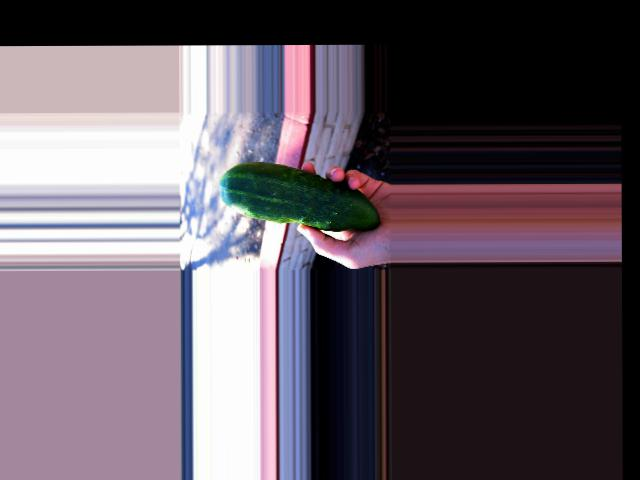cucumber: (220, 160, 379, 231)
